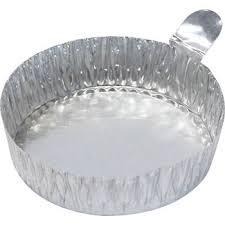metal: (0, 8, 225, 217)
